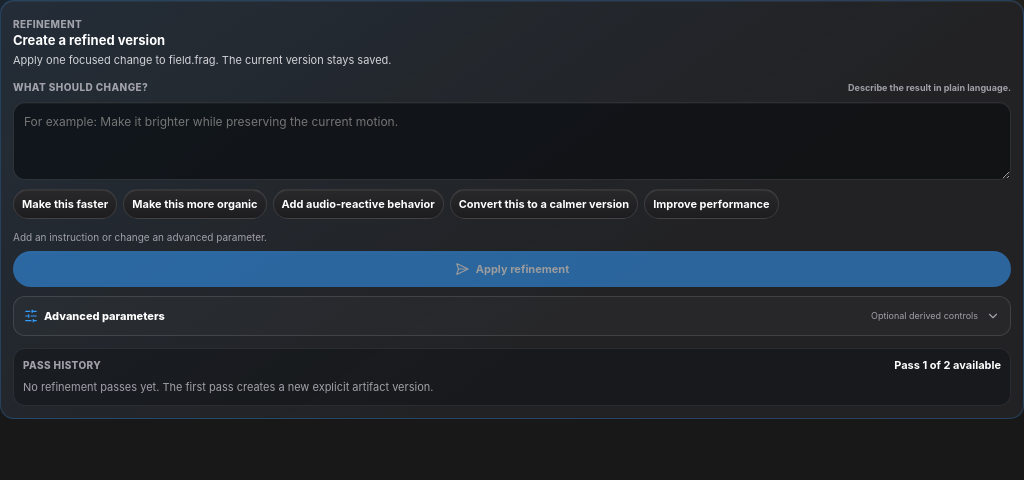
it: ArtifactRefinementPanel › keeps the instruction and renders an accessible inline error when submission rejects
Replace the text in the text box named "Refinement instruction" with "Make it brighter" at (512, 141), box [13,102,1011,180]
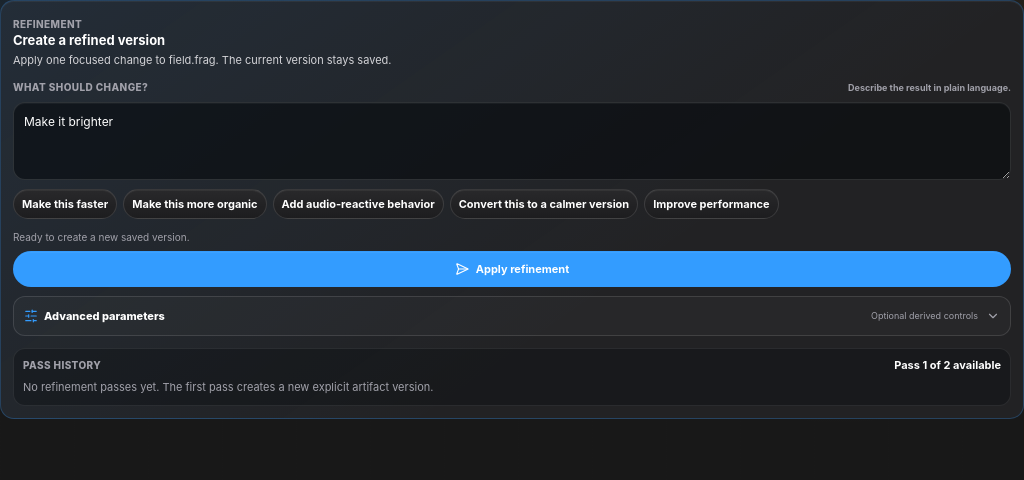
Click the button "Apply refinement".
click(512, 269)  # box [13,251,1011,287]
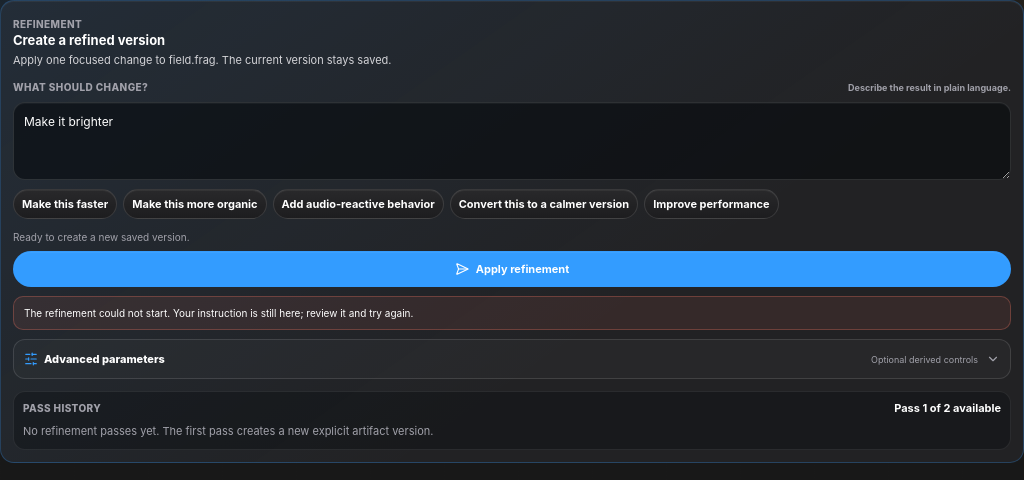
Result: the message shows "The refinement could not start" at [24,307,413,319]
